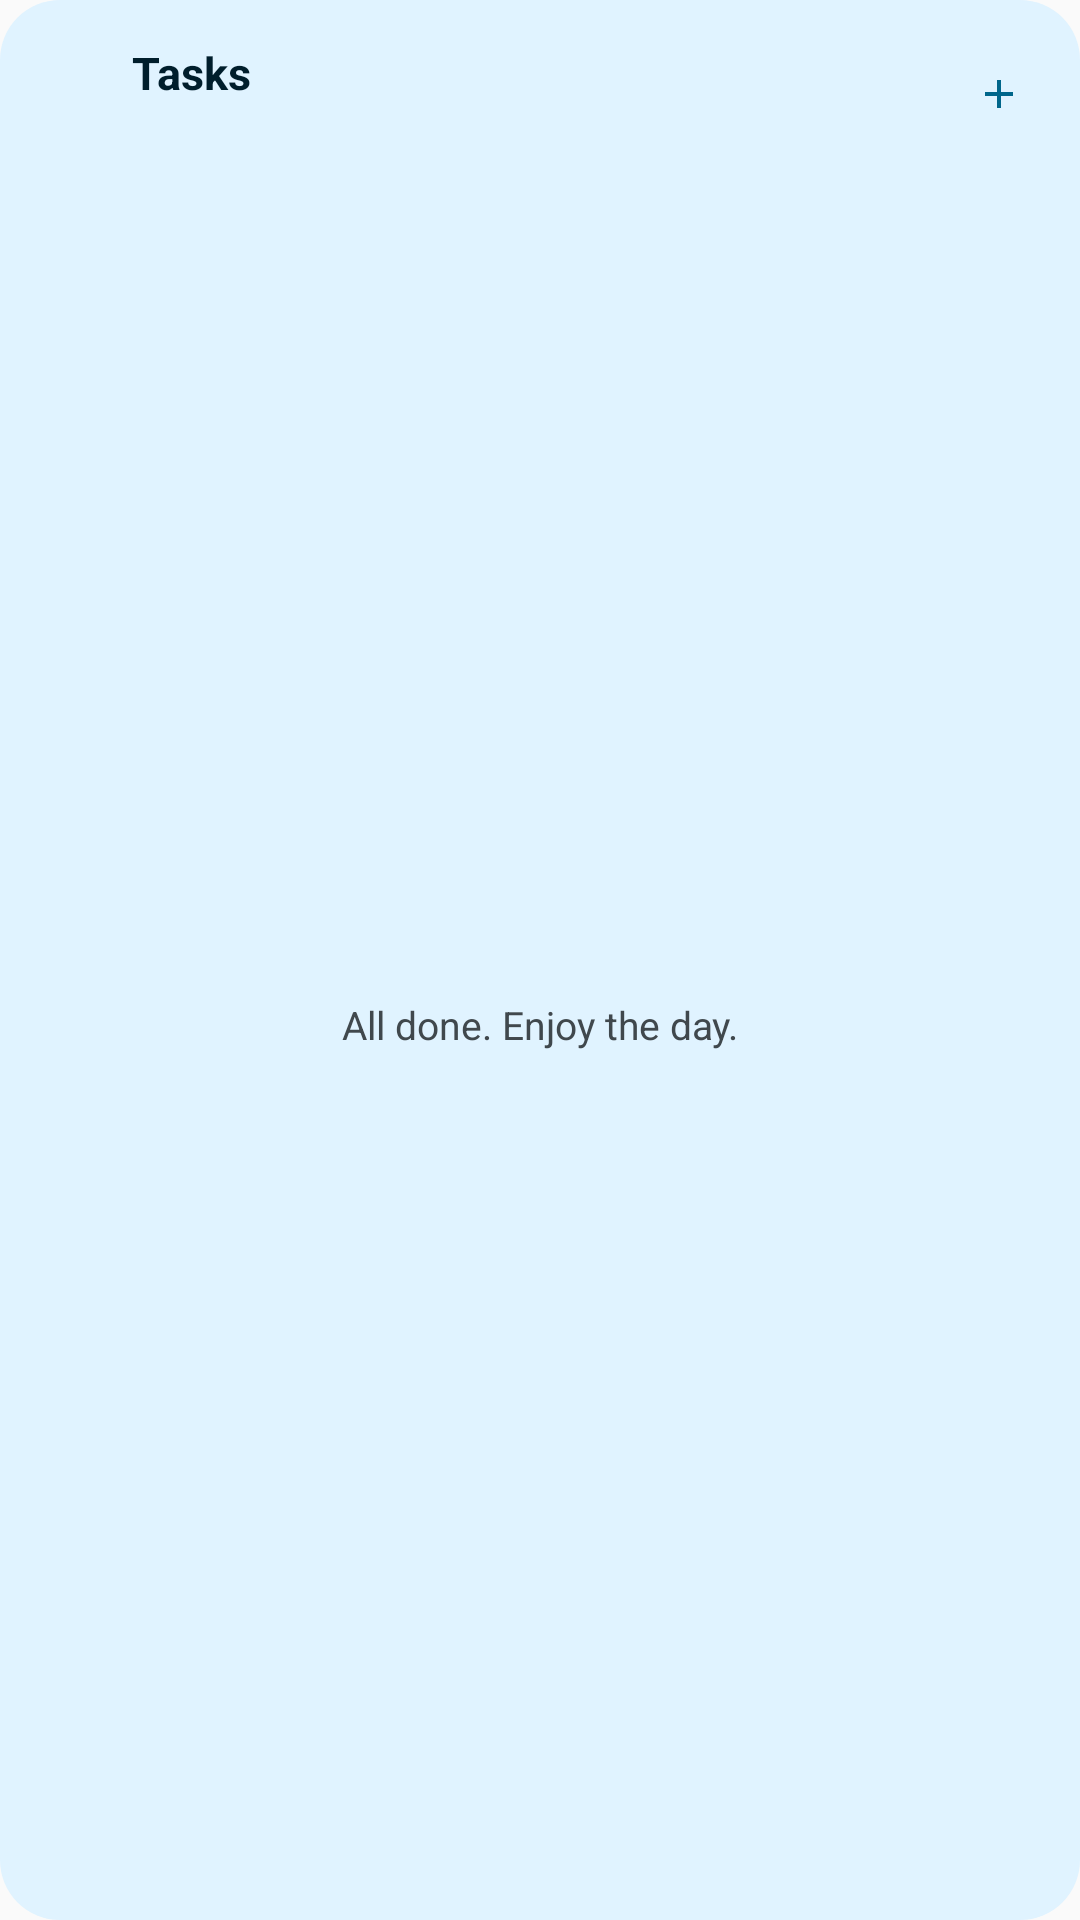

Icons on this 1080 x 1920 Android screen, each with the point to tap as [x,y]:
Add task: [999,94]
